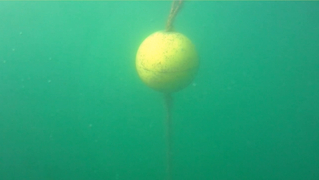buoy: (134, 29, 199, 93)
